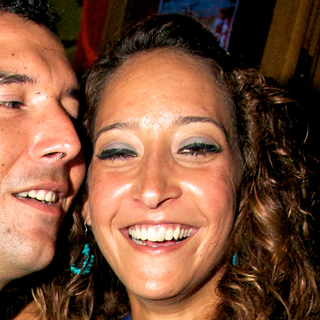eye: (167, 134, 227, 167), (95, 138, 142, 169), (2, 93, 30, 123)
